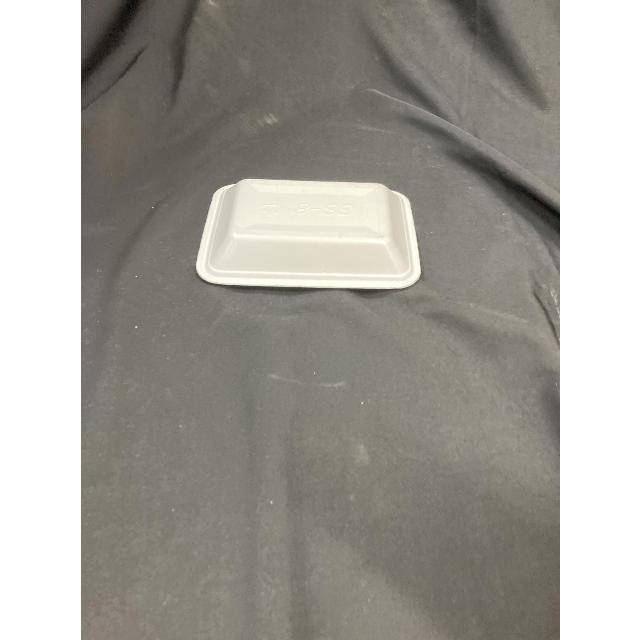Recipiente plastico: (196, 179, 421, 288)
